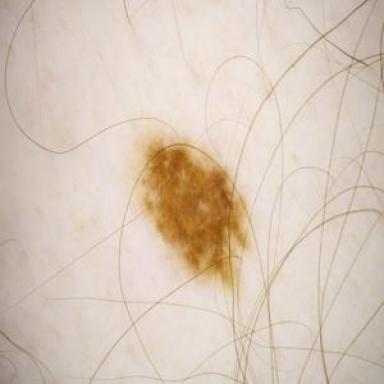Melanoma: (137, 136, 247, 287)
